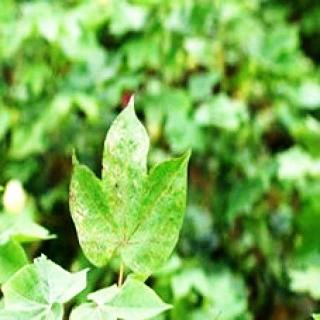grey mildew: (59, 94, 191, 266)
